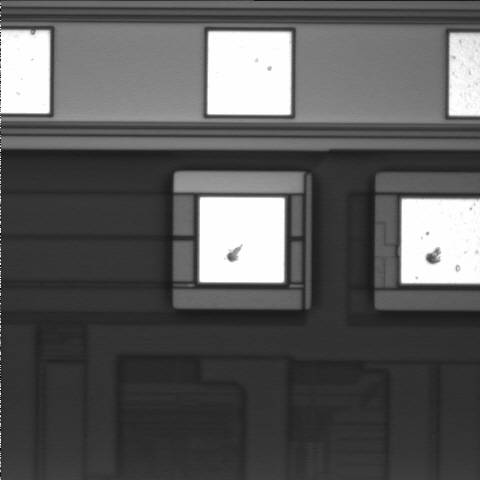pad: (199, 197, 285, 283), (207, 32, 291, 115)
